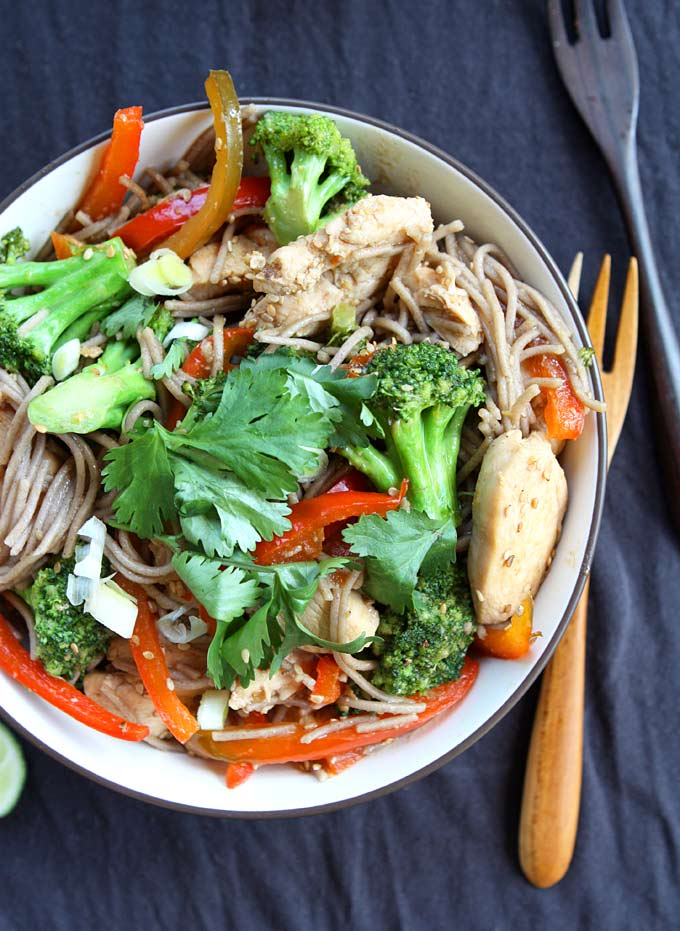Soba: (373, 223, 612, 450), (4, 383, 168, 690)
